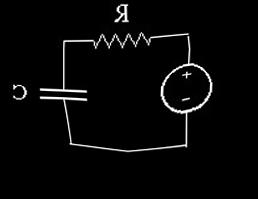Battery: (151, 58, 220, 121)
